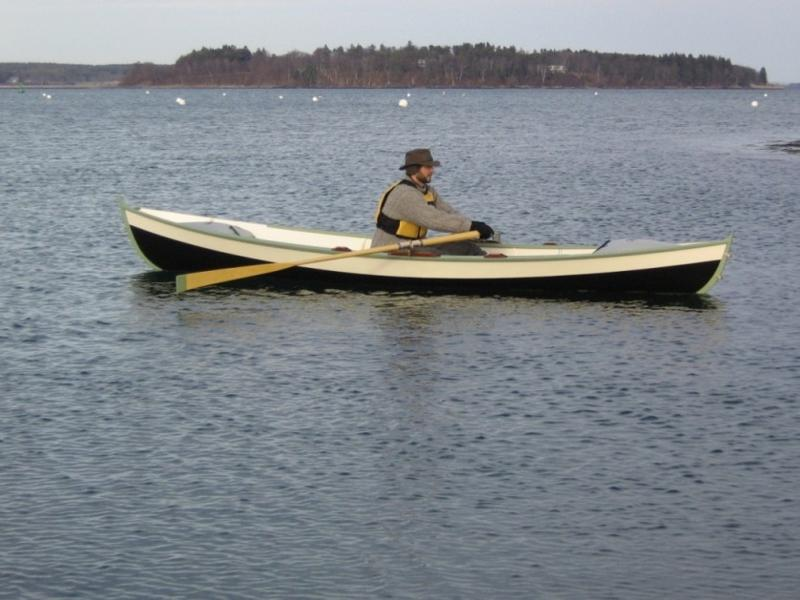person: (372, 145, 499, 256)
